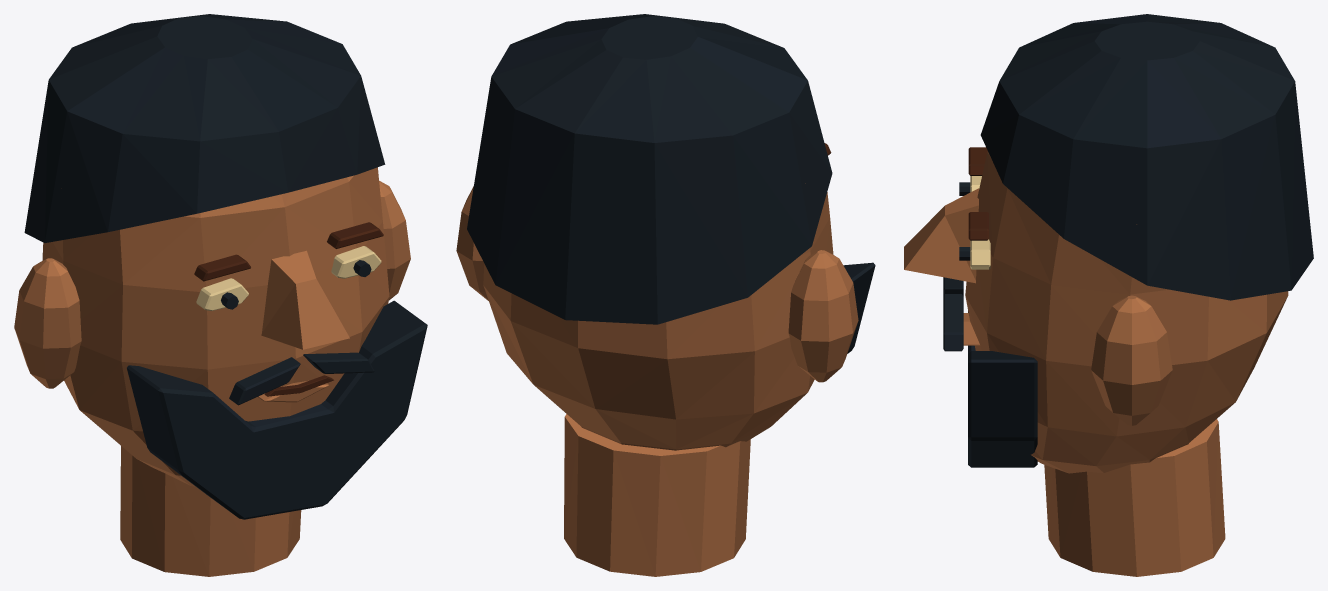
The model's file is EP_Head_Bearded.fbx.
The picture shows the model from 3 angles, left to right: view 1: azimuth 30°, elevation 25°; view 2: azimuth 150°, elevation 25°; view 3: azimuth 270°, elevation 25°; orthographic projection.
Visible parts, largest first — view 1: EP_Head_Bearded; view 2: EP_Head_Bearded; view 3: EP_Head_Bearded.
Boxes of the visible parts, box(x1,y1,x2,y2) form: EP_Head_Bearded: box(14, 14, 427, 576); EP_Head_Bearded: box(456, 14, 875, 576); EP_Head_Bearded: box(904, 14, 1313, 576).
Bounding box in the file's own units: 0.262 × 0.323 × 0.241.
